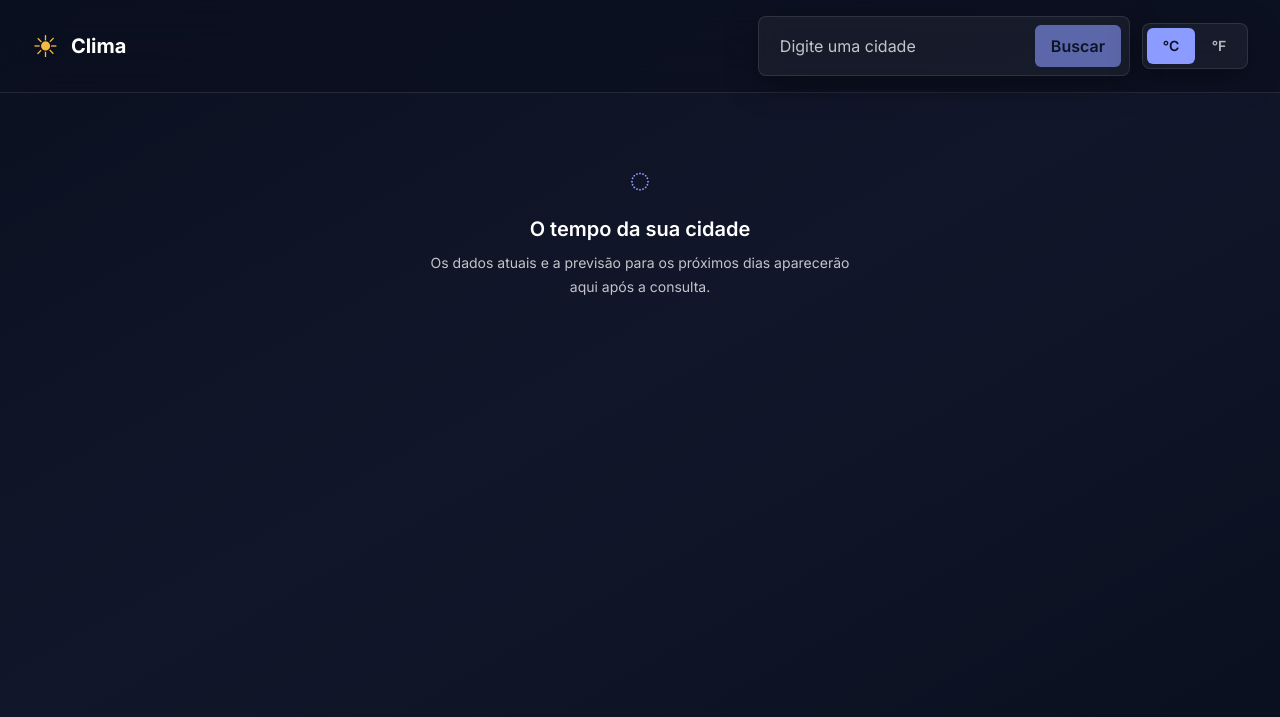
Scenario: App › loads weather after city selection and derives temperature from UI unit state
Type "Recife" into the search field named "Buscar cidade" at (897, 46), box top-left (767, 25), bottom-right (1027, 67)
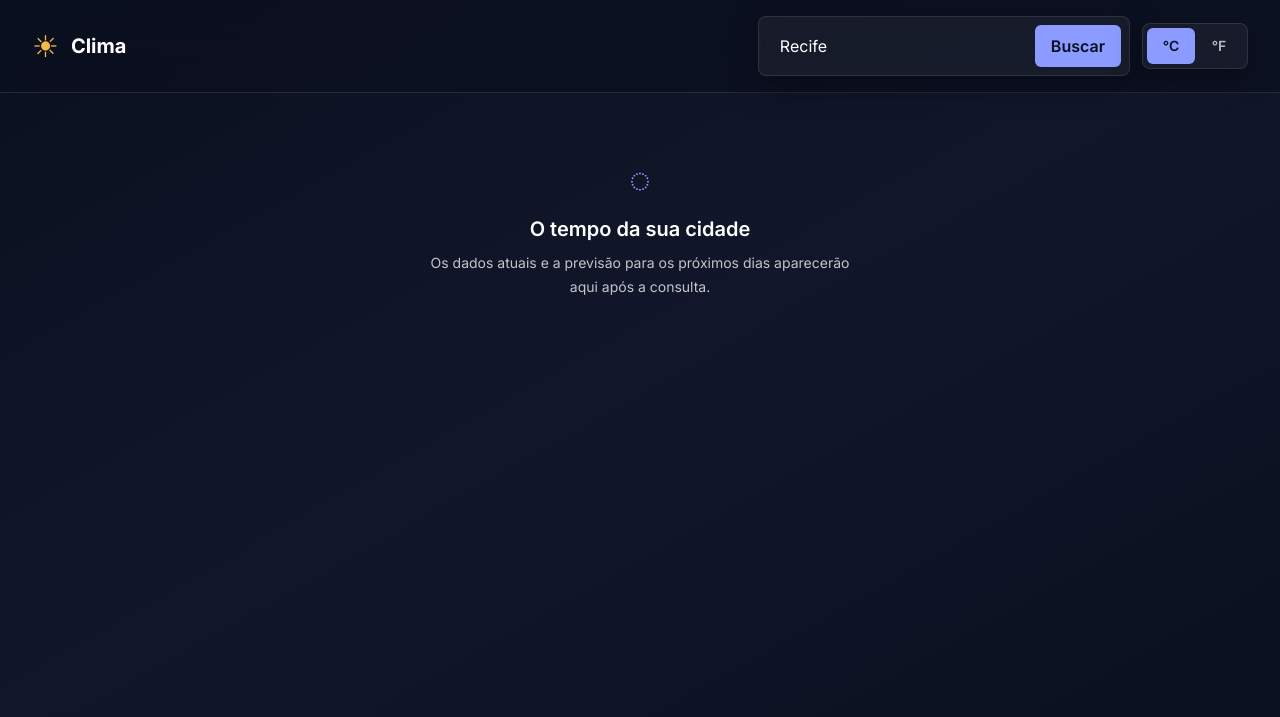
Submit the form, box top-left (758, 16), bottom-right (1130, 76)
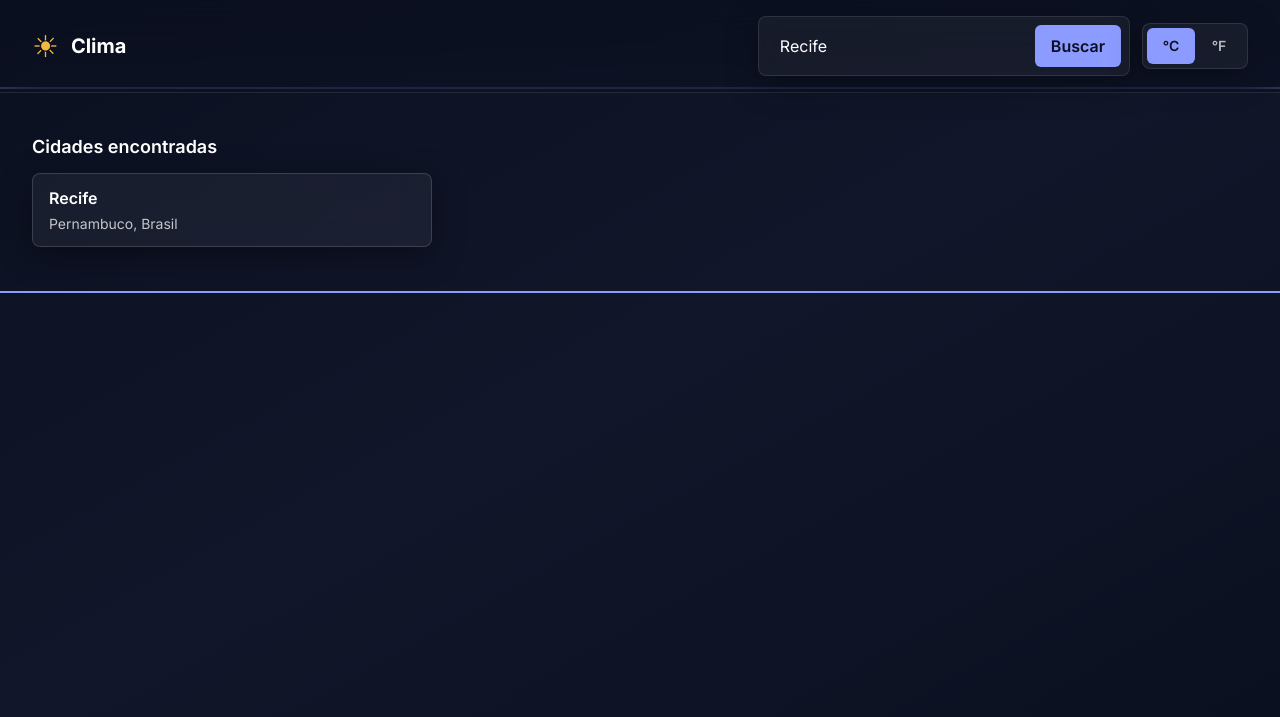
Check: the element "Cidades encontradas" is shown, box top-left (32, 136), bottom-right (432, 247)
Click the button "Recife Pernambuco, Brasil" at (73, 198), box top-left (32, 173), bottom-right (432, 247)
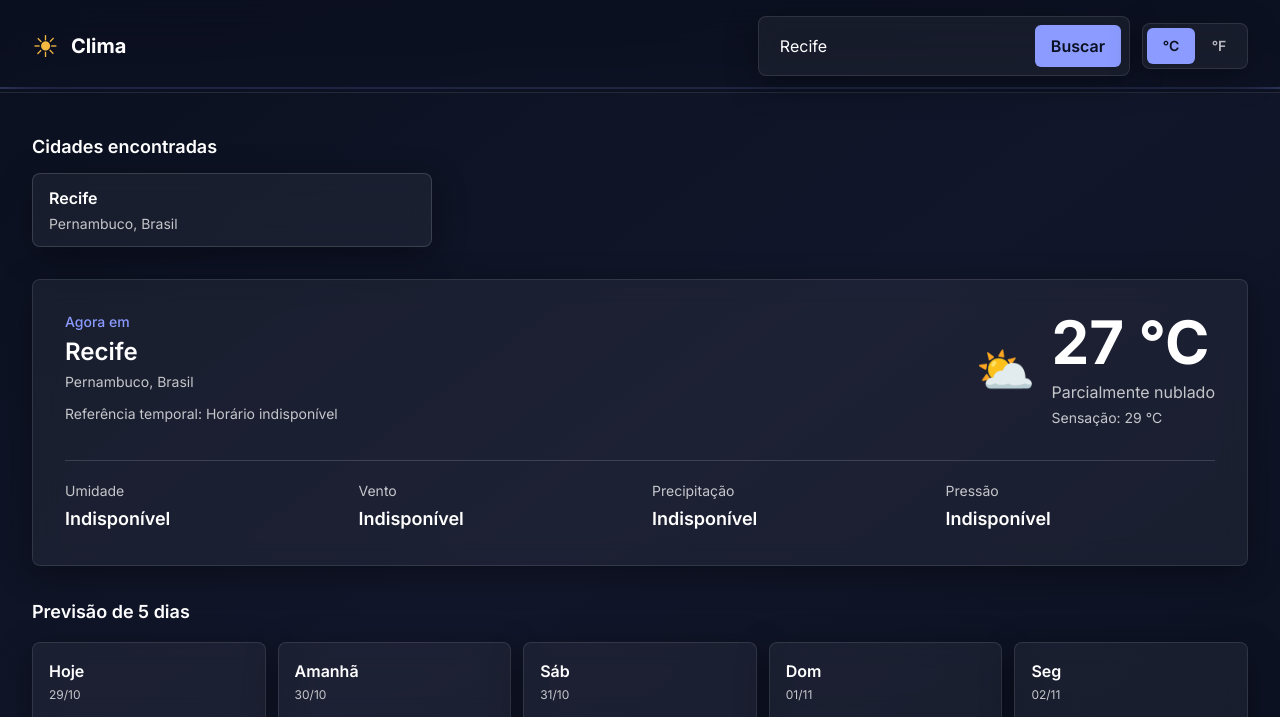
Check: the heading "Recife" is shown, box top-left (65, 337), bottom-right (138, 366)
Check: the text "27 °C" is shown, box top-left (1052, 312), bottom-right (1215, 372)
Click the button "°F" at (1219, 46), box top-left (1195, 28), bottom-right (1243, 64)
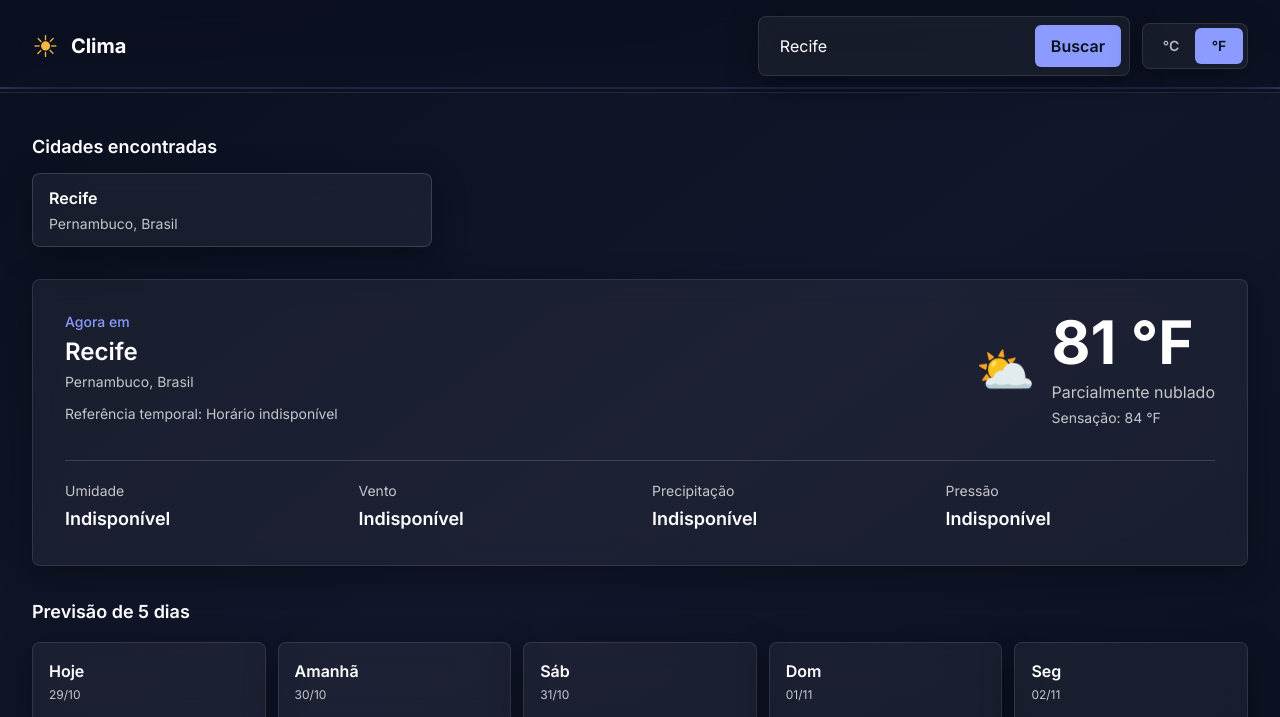
Check: the text "81 °F" is shown, box top-left (1052, 312), bottom-right (1215, 372)
